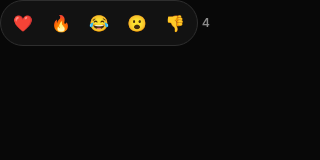
Scenario: Release 2.4 live fan interactions › offers five accessible reaction choices and updates optimistically
Click the button named "Add Wow reaction" at (137, 23), box [119,5,155,41]
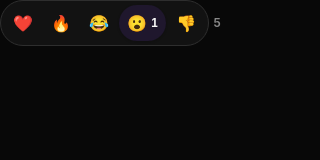
Result: the element named "5 reactions" is shown at [0,0,209,46]
